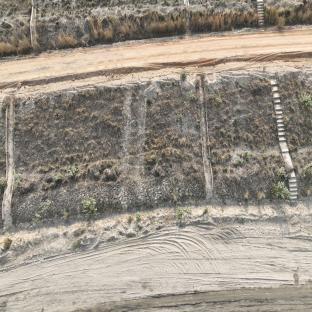rock_toe: (13, 174, 115, 225), (216, 156, 285, 199), (146, 162, 202, 206)
slope_drain: (117, 86, 135, 208), (197, 78, 215, 198), (0, 99, 16, 224), (132, 87, 147, 202)
